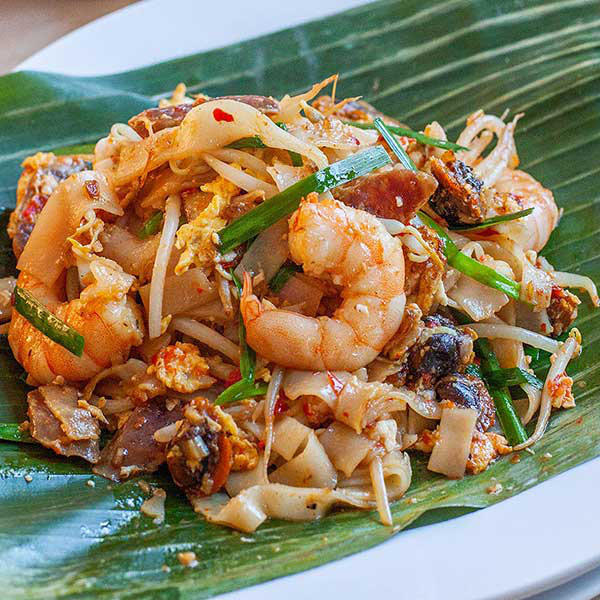Char Kway Teow: (17, 74, 569, 526)
